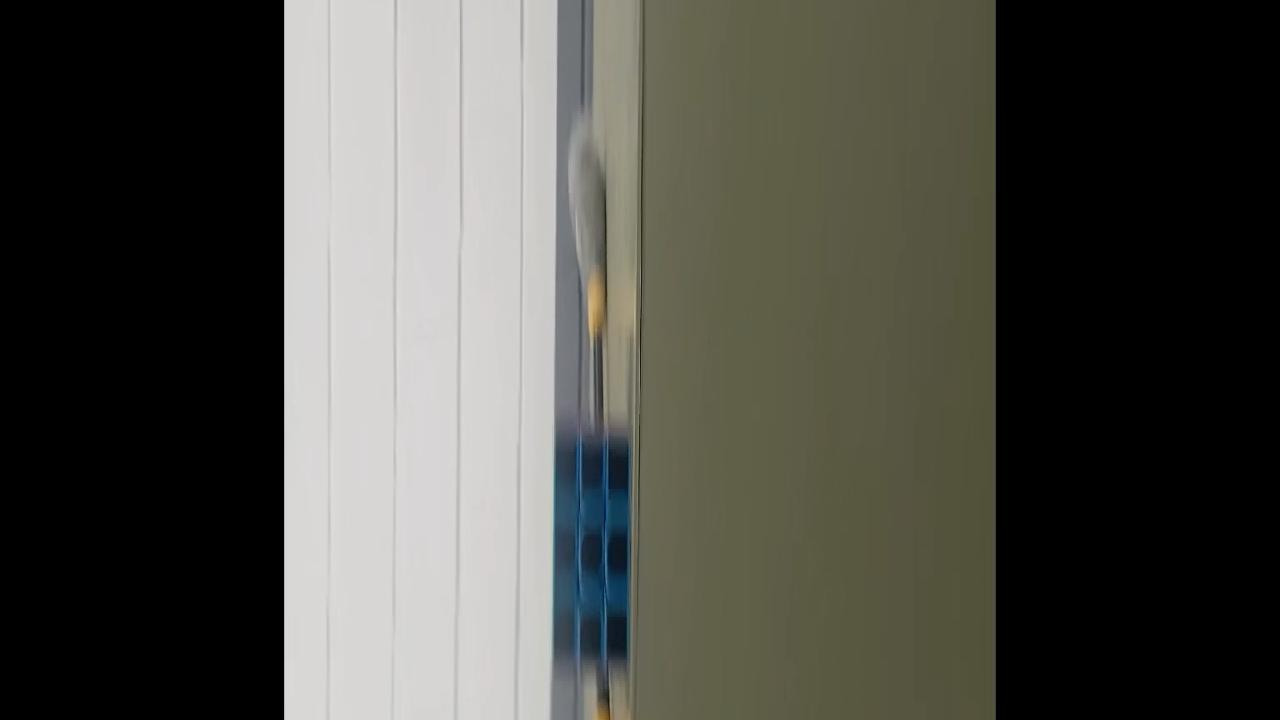Cube: (552, 417, 630, 690)
